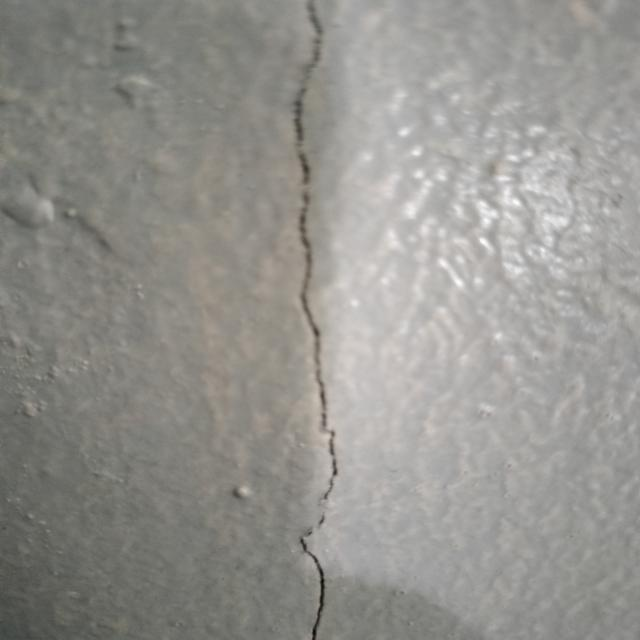Crack: (274, 1, 346, 640)
